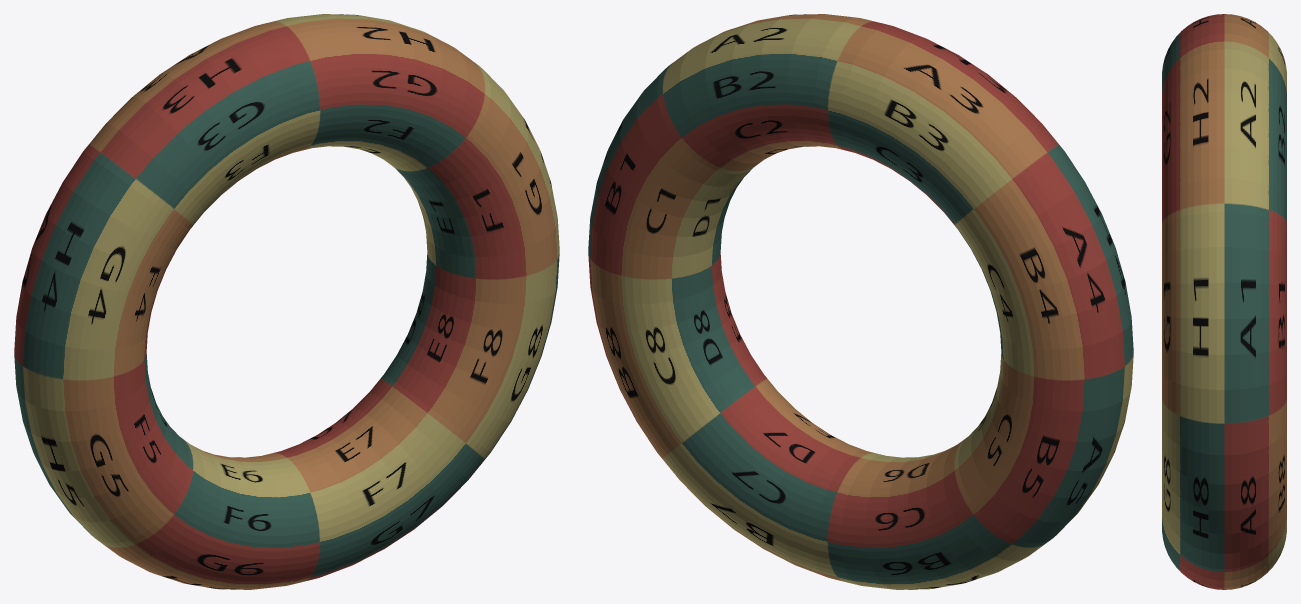
Rendered from texture_torus_R3_r5.glb.
3 views of the same model, side by side, from view 1: azimuth 30°, elevation 25°; view 2: azimuth 150°, elevation 25°; view 3: azimuth 270°, elevation 25° (orthographic). The views are drawn at different scales.
Visible parts, largest first — view 1: world; view 2: world; view 3: world.
Part boxes in pixels (box(x1,y1,x2,y2)): world: box(14, 14, 559, 589); world: box(588, 14, 1133, 589); world: box(1162, 14, 1286, 589).
Size of the model in its own units: 15.33 by 15.3 by 3.33.
1 material, 1 textured.
